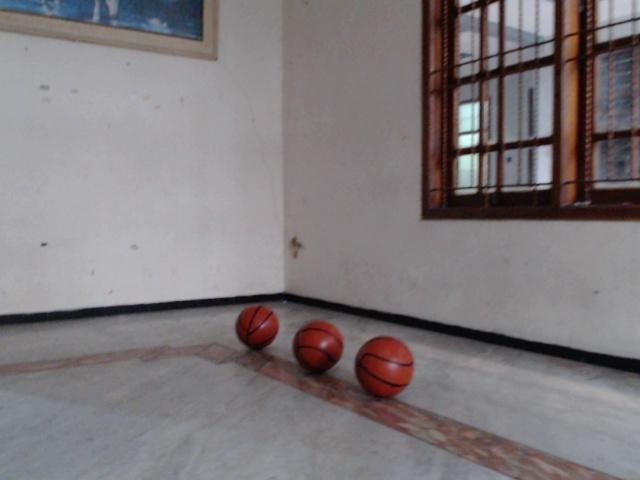Sports-Ball: (355, 333, 417, 397), (292, 318, 347, 372), (233, 304, 279, 349)
